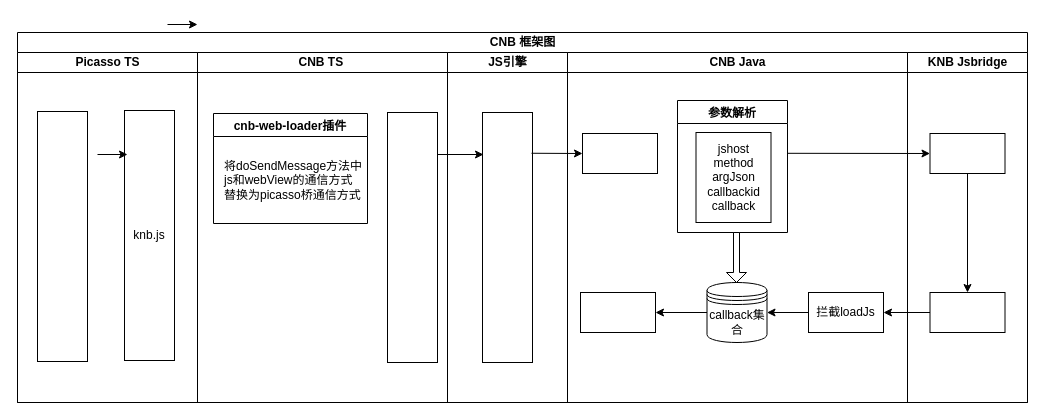
The diagram is 1045 pixels wide and 420 high, and some of its shapes have lost their labels. Here are the shapes that lost their labels. From the top down, the centre of each, then its label:
At (620,153): "Picasso cnb桥".
At (967,153): "执行Jshandler".
At (62,236): "Picasso 调用KNB桥".
At (412,237): "cnb.js".
At (618,312): "执行Picasso callback".
At (967,312): "native回调".
